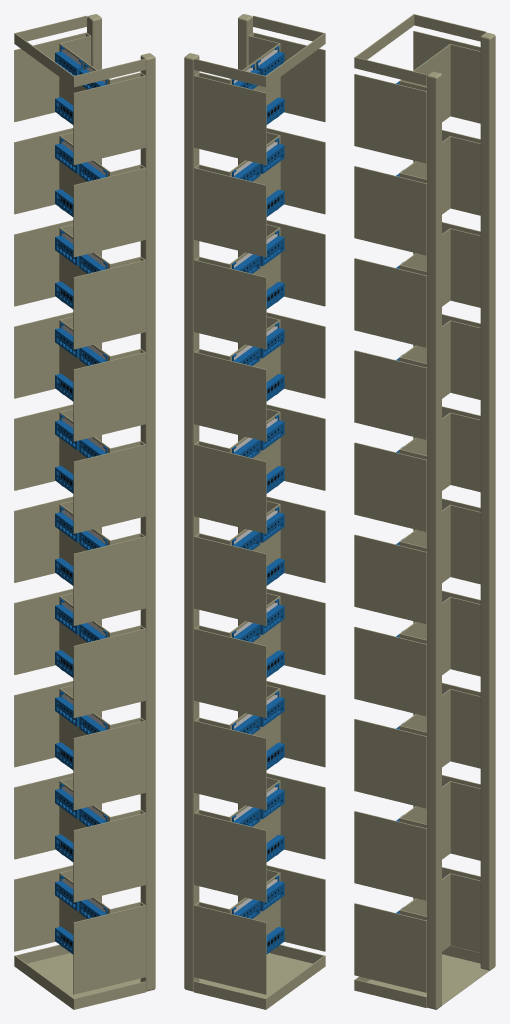
File: DDF.FBX
3 views of the same model, side by side, from view 1: azimuth 30°, elevation 25°; view 2: azimuth 150°, elevation 25°; view 3: azimuth 330°, elevation 25° (orthographic).
Parts seen in each view (by area): view 1: DDF机架0.3*0.24*2.6; view 2: DDF机架0.3*0.24*2.6; view 3: DDF机架0.3*0.24*2.6.
Part boxes in pixels (<box>): DDF机架0.3*0.24*2.6: <box>14,14,155,1009</box>; DDF机架0.3*0.24*2.6: <box>184,14,325,1009</box>; DDF机架0.3*0.24*2.6: <box>354,14,495,1009</box>.
Bounding box in the file's own units: 240 × 2600 × 300.
